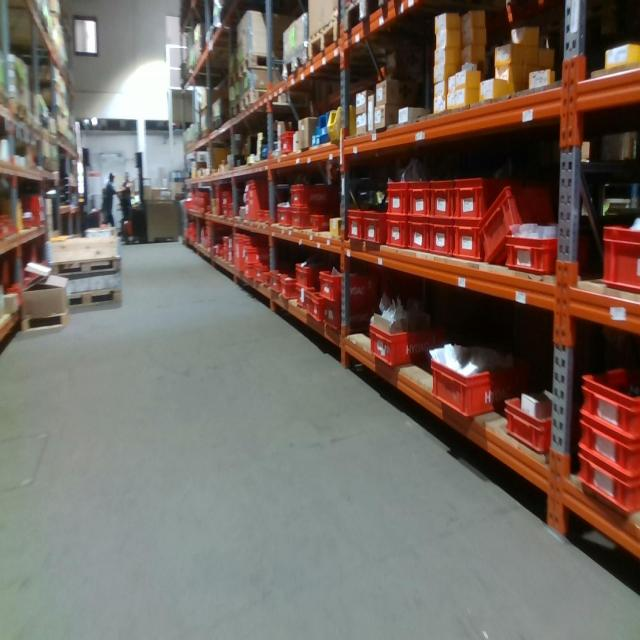pallet: (339, 0, 387, 36), (306, 16, 343, 62), (52, 254, 119, 277), (70, 285, 121, 309), (237, 52, 282, 78), (281, 45, 310, 79), (240, 90, 268, 114), (226, 66, 238, 92), (227, 104, 239, 123), (212, 117, 224, 133)
pallet_truck: (77, 140, 108, 229), (121, 147, 148, 248)
small_load_carrier: (479, 174, 552, 274), (431, 352, 522, 422), (575, 361, 639, 439), (570, 452, 639, 516), (571, 417, 637, 483), (503, 380, 552, 459), (505, 229, 571, 284), (368, 317, 437, 367), (452, 169, 495, 225), (602, 223, 638, 286), (323, 297, 375, 334), (319, 267, 375, 299), (244, 176, 268, 235), (235, 232, 260, 280), (430, 178, 459, 219), (454, 222, 484, 260), (406, 178, 432, 220), (430, 219, 456, 260), (384, 181, 412, 219), (291, 183, 333, 207), (364, 204, 387, 244), (406, 220, 432, 254), (279, 271, 297, 312), (345, 207, 364, 245), (384, 219, 405, 248), (290, 261, 311, 289), (277, 129, 296, 158), (290, 206, 309, 233), (309, 209, 332, 231), (306, 300, 324, 328), (254, 262, 282, 280), (21, 195, 47, 211), (274, 201, 295, 219), (243, 248, 265, 265), (294, 286, 310, 309), (2, 215, 13, 245), (22, 209, 34, 235), (269, 268, 281, 292), (263, 206, 276, 227), (244, 264, 258, 281), (33, 210, 47, 222), (257, 206, 264, 228)
